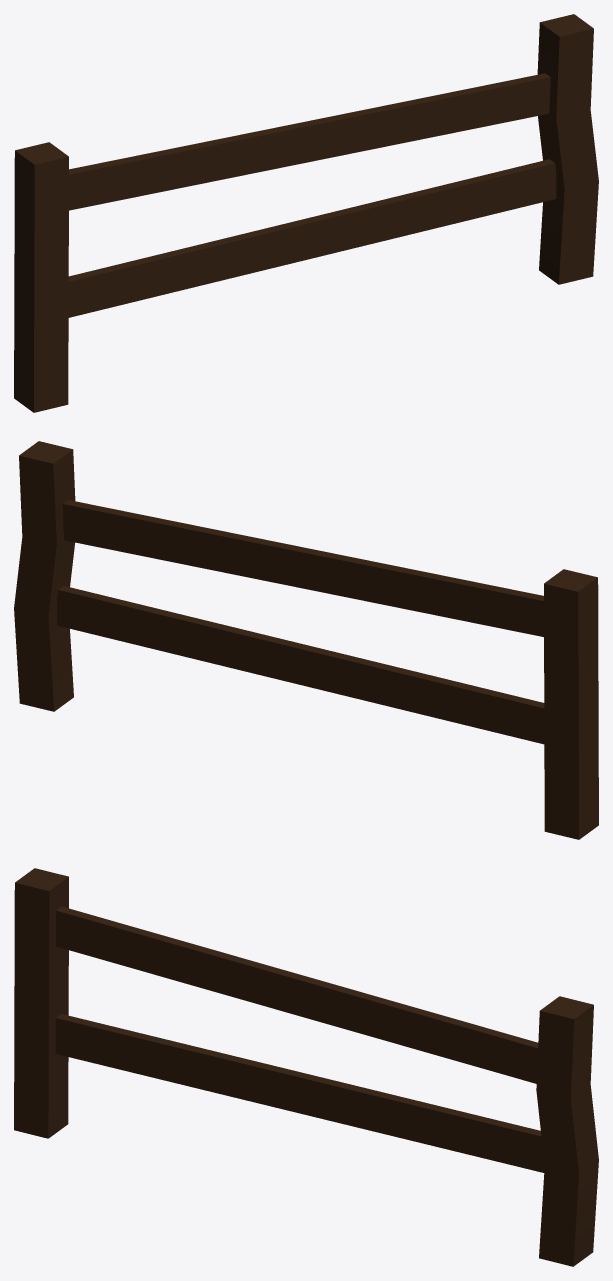
Rendered from Hekje1.fbx.
3 views of the same model, one above another, from view 1: azimuth 30°, elevation 25°; view 2: azimuth 150°, elevation 25°; view 3: azimuth 330°, elevation 25° (orthographic).
Visible parts, largest first — view 1: pCube7; view 2: pCube7; view 3: pCube7.
Part boxes in pixels (x1=…): pCube7: x1=14, y1=14, x2=598, y2=412; pCube7: x1=14, y1=441, x2=598, y2=839; pCube7: x1=14, y1=868, x2=598, y2=1266.
Size of the model in its own units: 7.82 by 3.28 by 0.4764.
